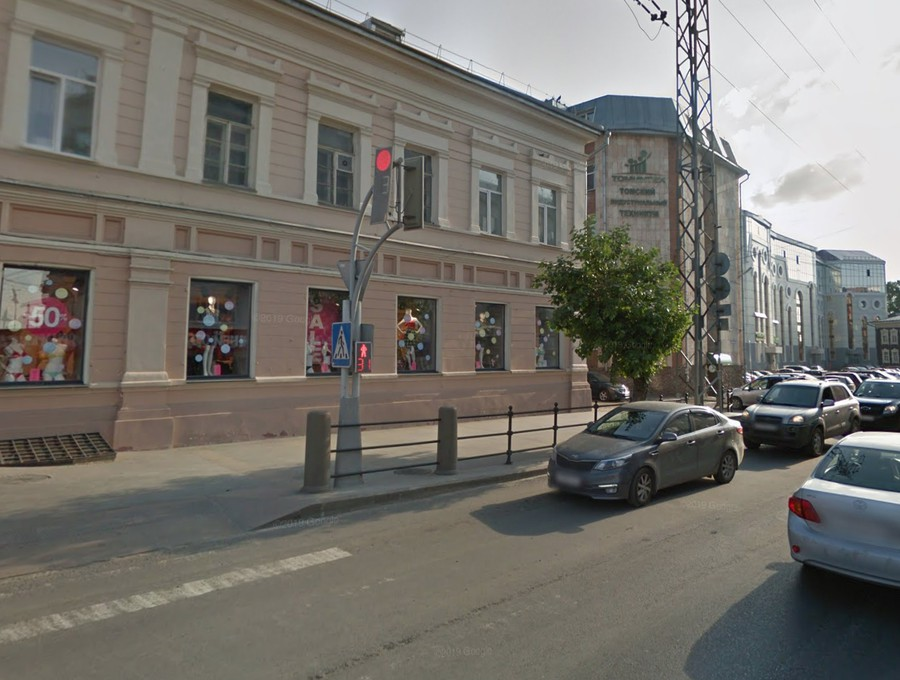Traffic Light-red: (354, 339, 375, 375)
